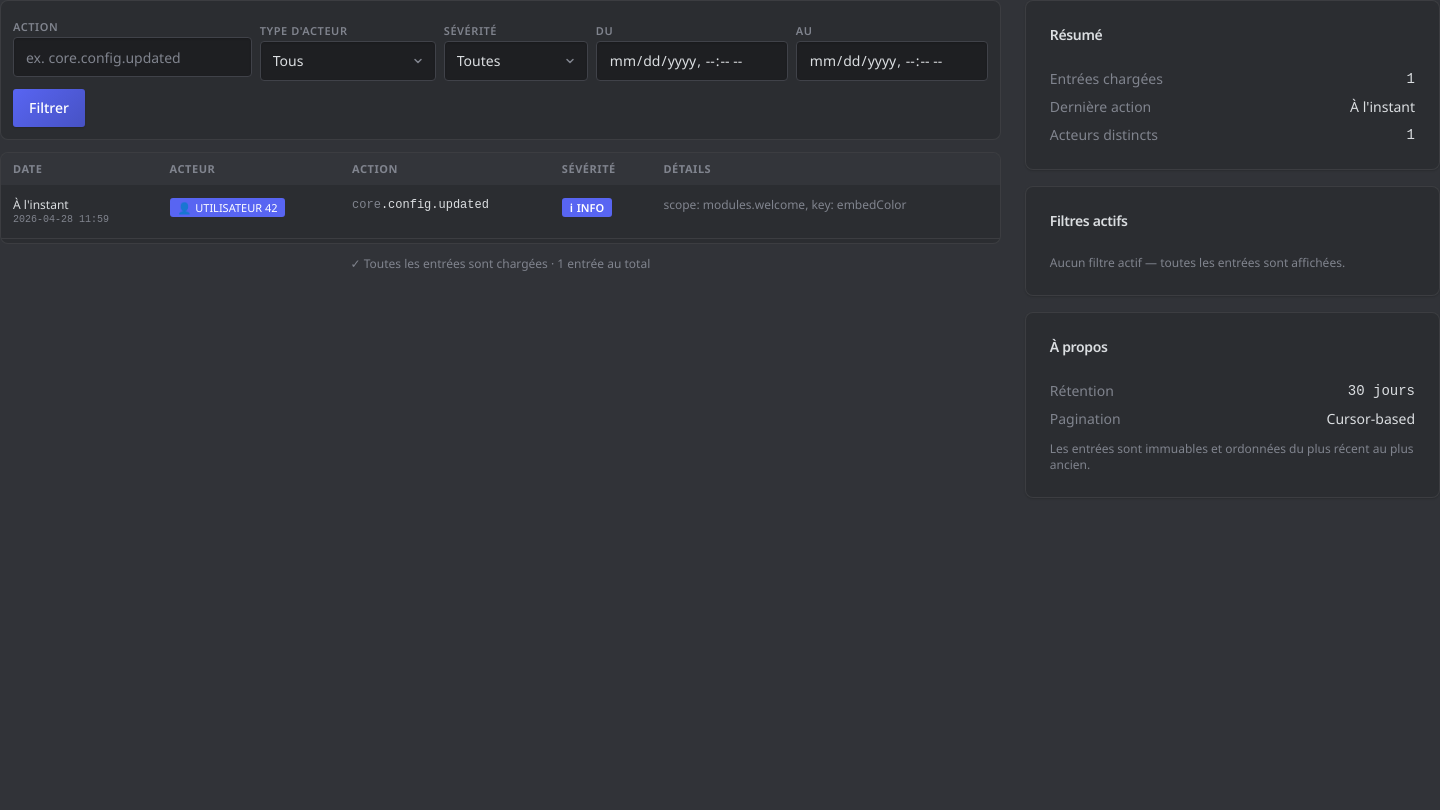
Test case: AuditView › ouvre un drawer de détail au clic sur une ligne, affiche les métadonnées
The width and height of the screenshot is (1440, 810).
Click the button with aria-label "Détails de l'entrée audit". click: (41, 204)
box: [1, 185, 1000, 238]
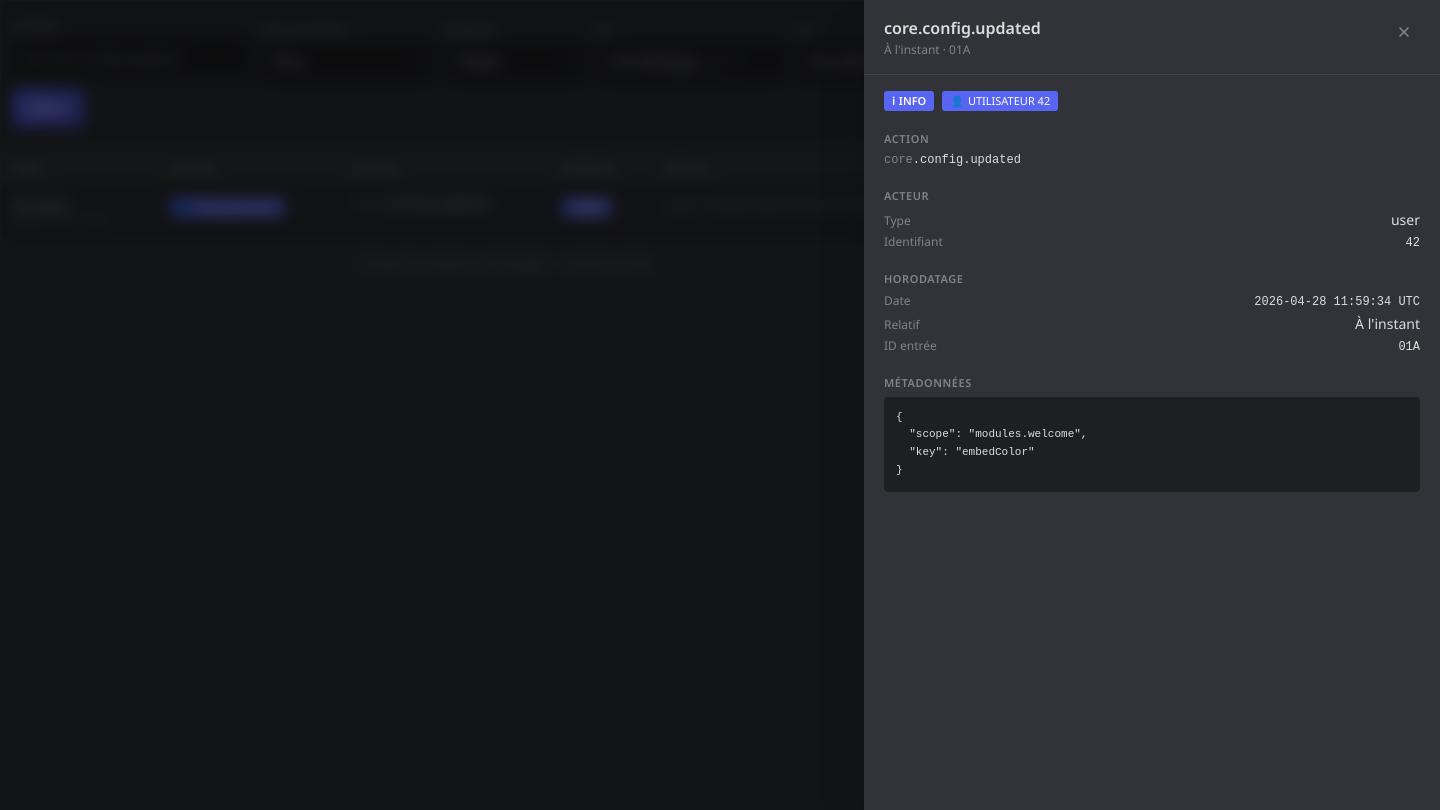
Now the text "{ \"scope\": \"modules.welcome\", \"key\": \"embedColor\" }" is shown, box [884, 396, 1420, 492]
# Bouton Fermer revient à l'état initial.
Click the button named "Fermer". click: (1404, 32)
box: [1388, 16, 1420, 48]
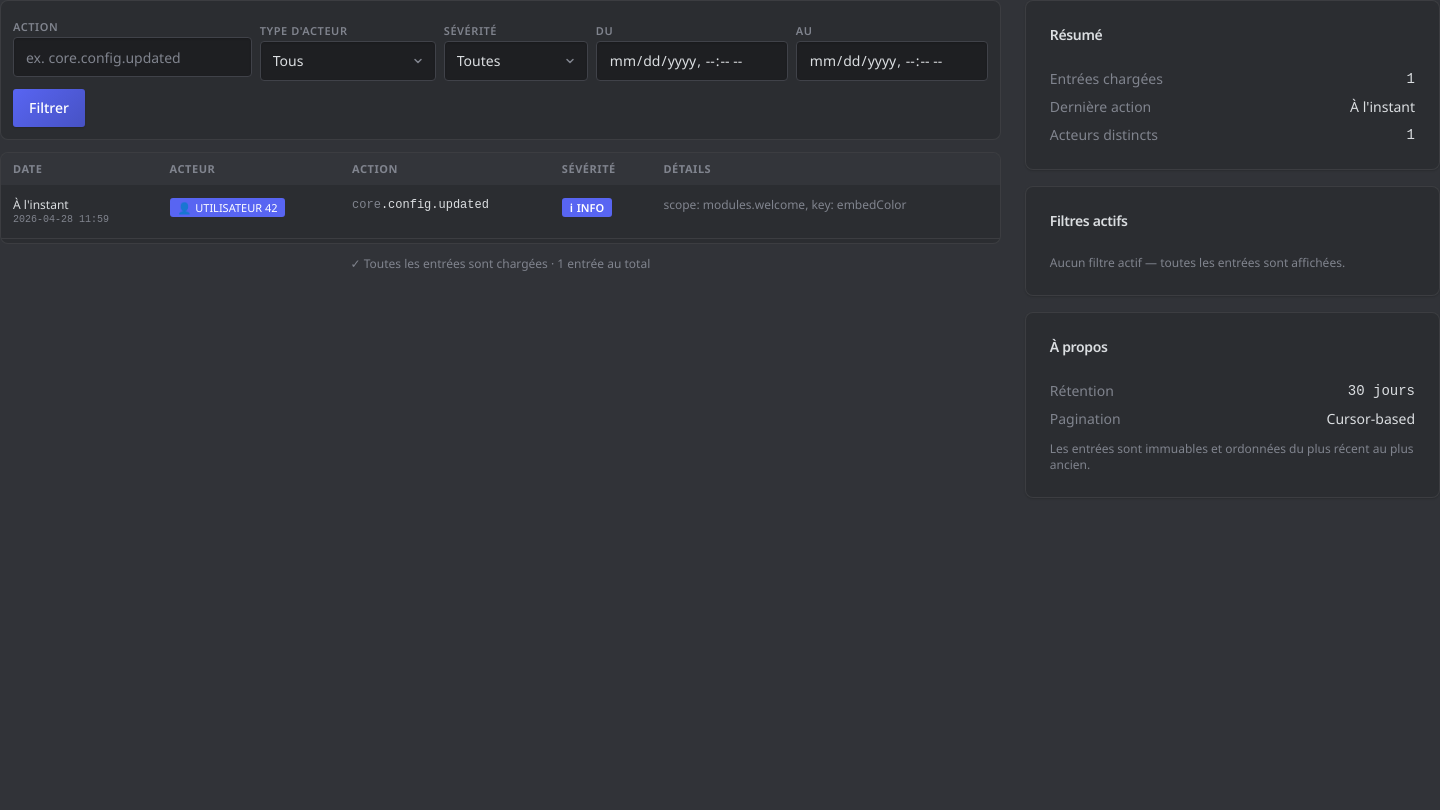
Now the dialog is gone
